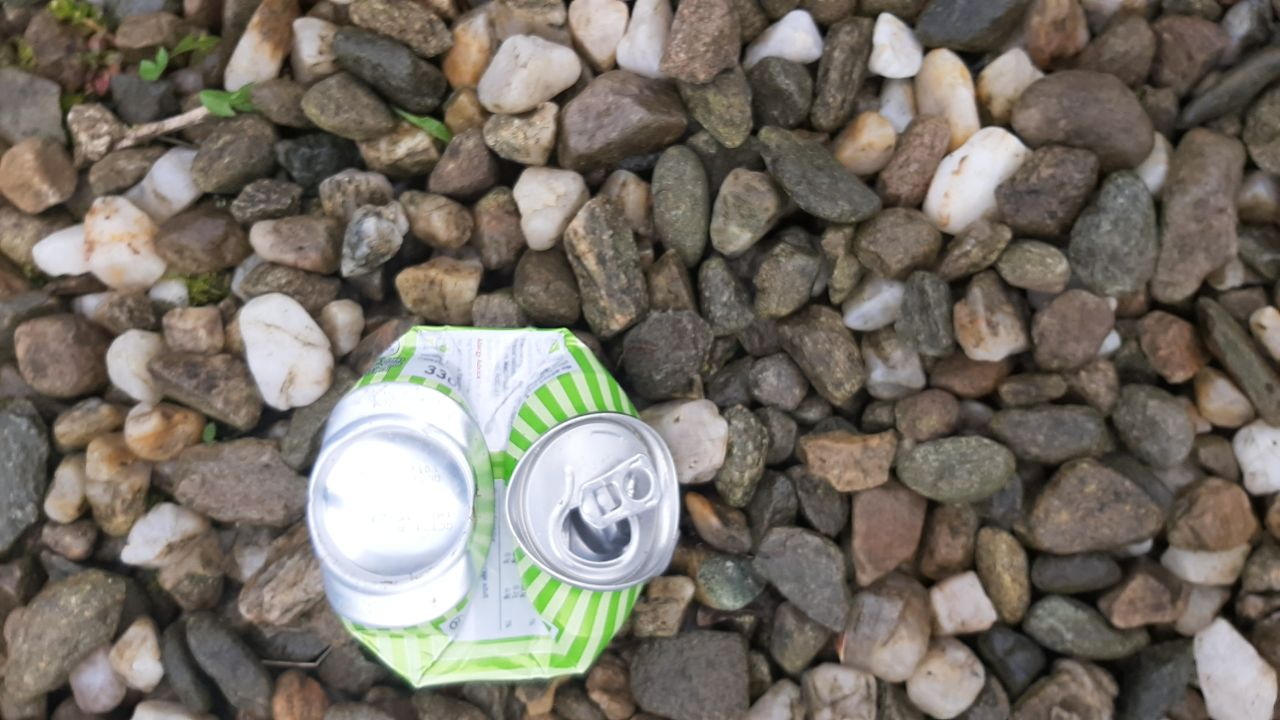Can: (302, 327, 679, 689)
